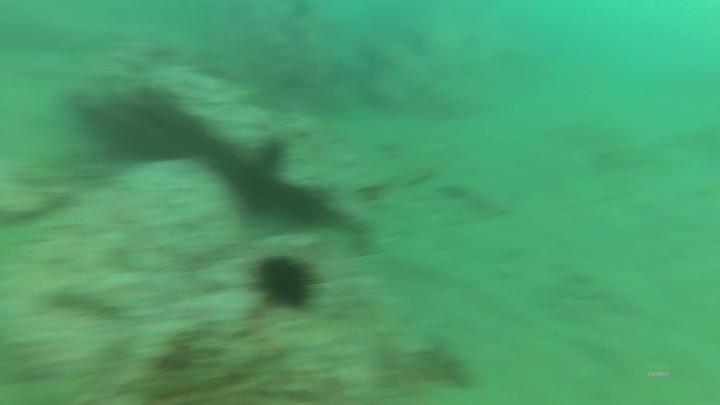echinus: (257, 256, 312, 317)
